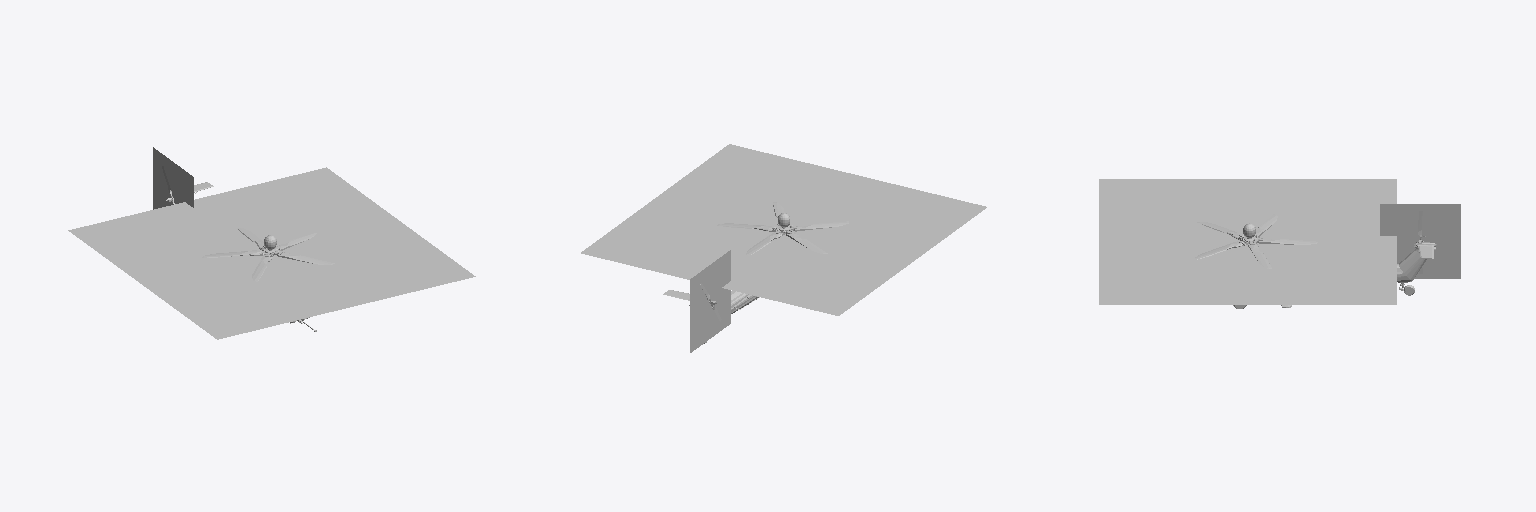
3 views of the same model, side by side, from view 1: azimuth 30°, elevation 25°; view 2: azimuth 150°, elevation 25°; view 3: azimuth 270°, elevation 25° (orthographic).
Parts seen in each view (by area): view 1: Mi_2811, Mi_2816, Mi_2812; view 2: Mi_2811, Mi_2816, Mi_2812, Mi_2817; view 3: Mi_2811, Mi_2816, Mi_2812, Mi_2817.
Boxes of the visible parts, <box> form: Mi_2811: <box>68,167,475,339</box>; Mi_2816: <box>153,147,193,209</box>; Mi_2812: <box>202,228,334,281</box>; Mi_2811: <box>581,144,986,315</box>; Mi_2816: <box>690,250,730,352</box>; Mi_2812: <box>717,202,848,255</box>; Mi_2817: <box>663,213,789,313</box>; Mi_2811: <box>1099,179,1396,304</box>; Mi_2816: <box>1380,204,1460,278</box>; Mi_2812: <box>1195,214,1317,307</box>; Mi_2817: <box>1243,223,1436,291</box>.
Bounding box in the file's own units: 18.51 × 6.23 × 22.48.